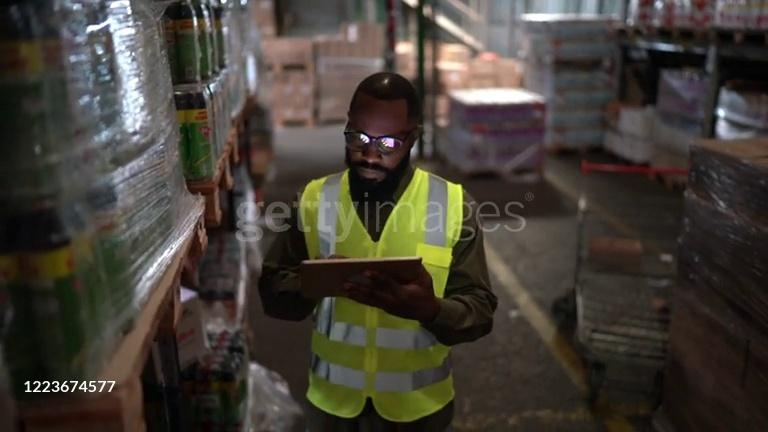person: (260, 71, 498, 432)
